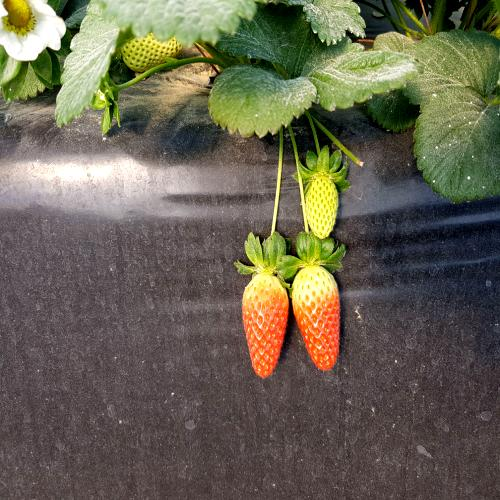partially-ripe: (240, 265, 293, 386), (291, 264, 344, 384)
